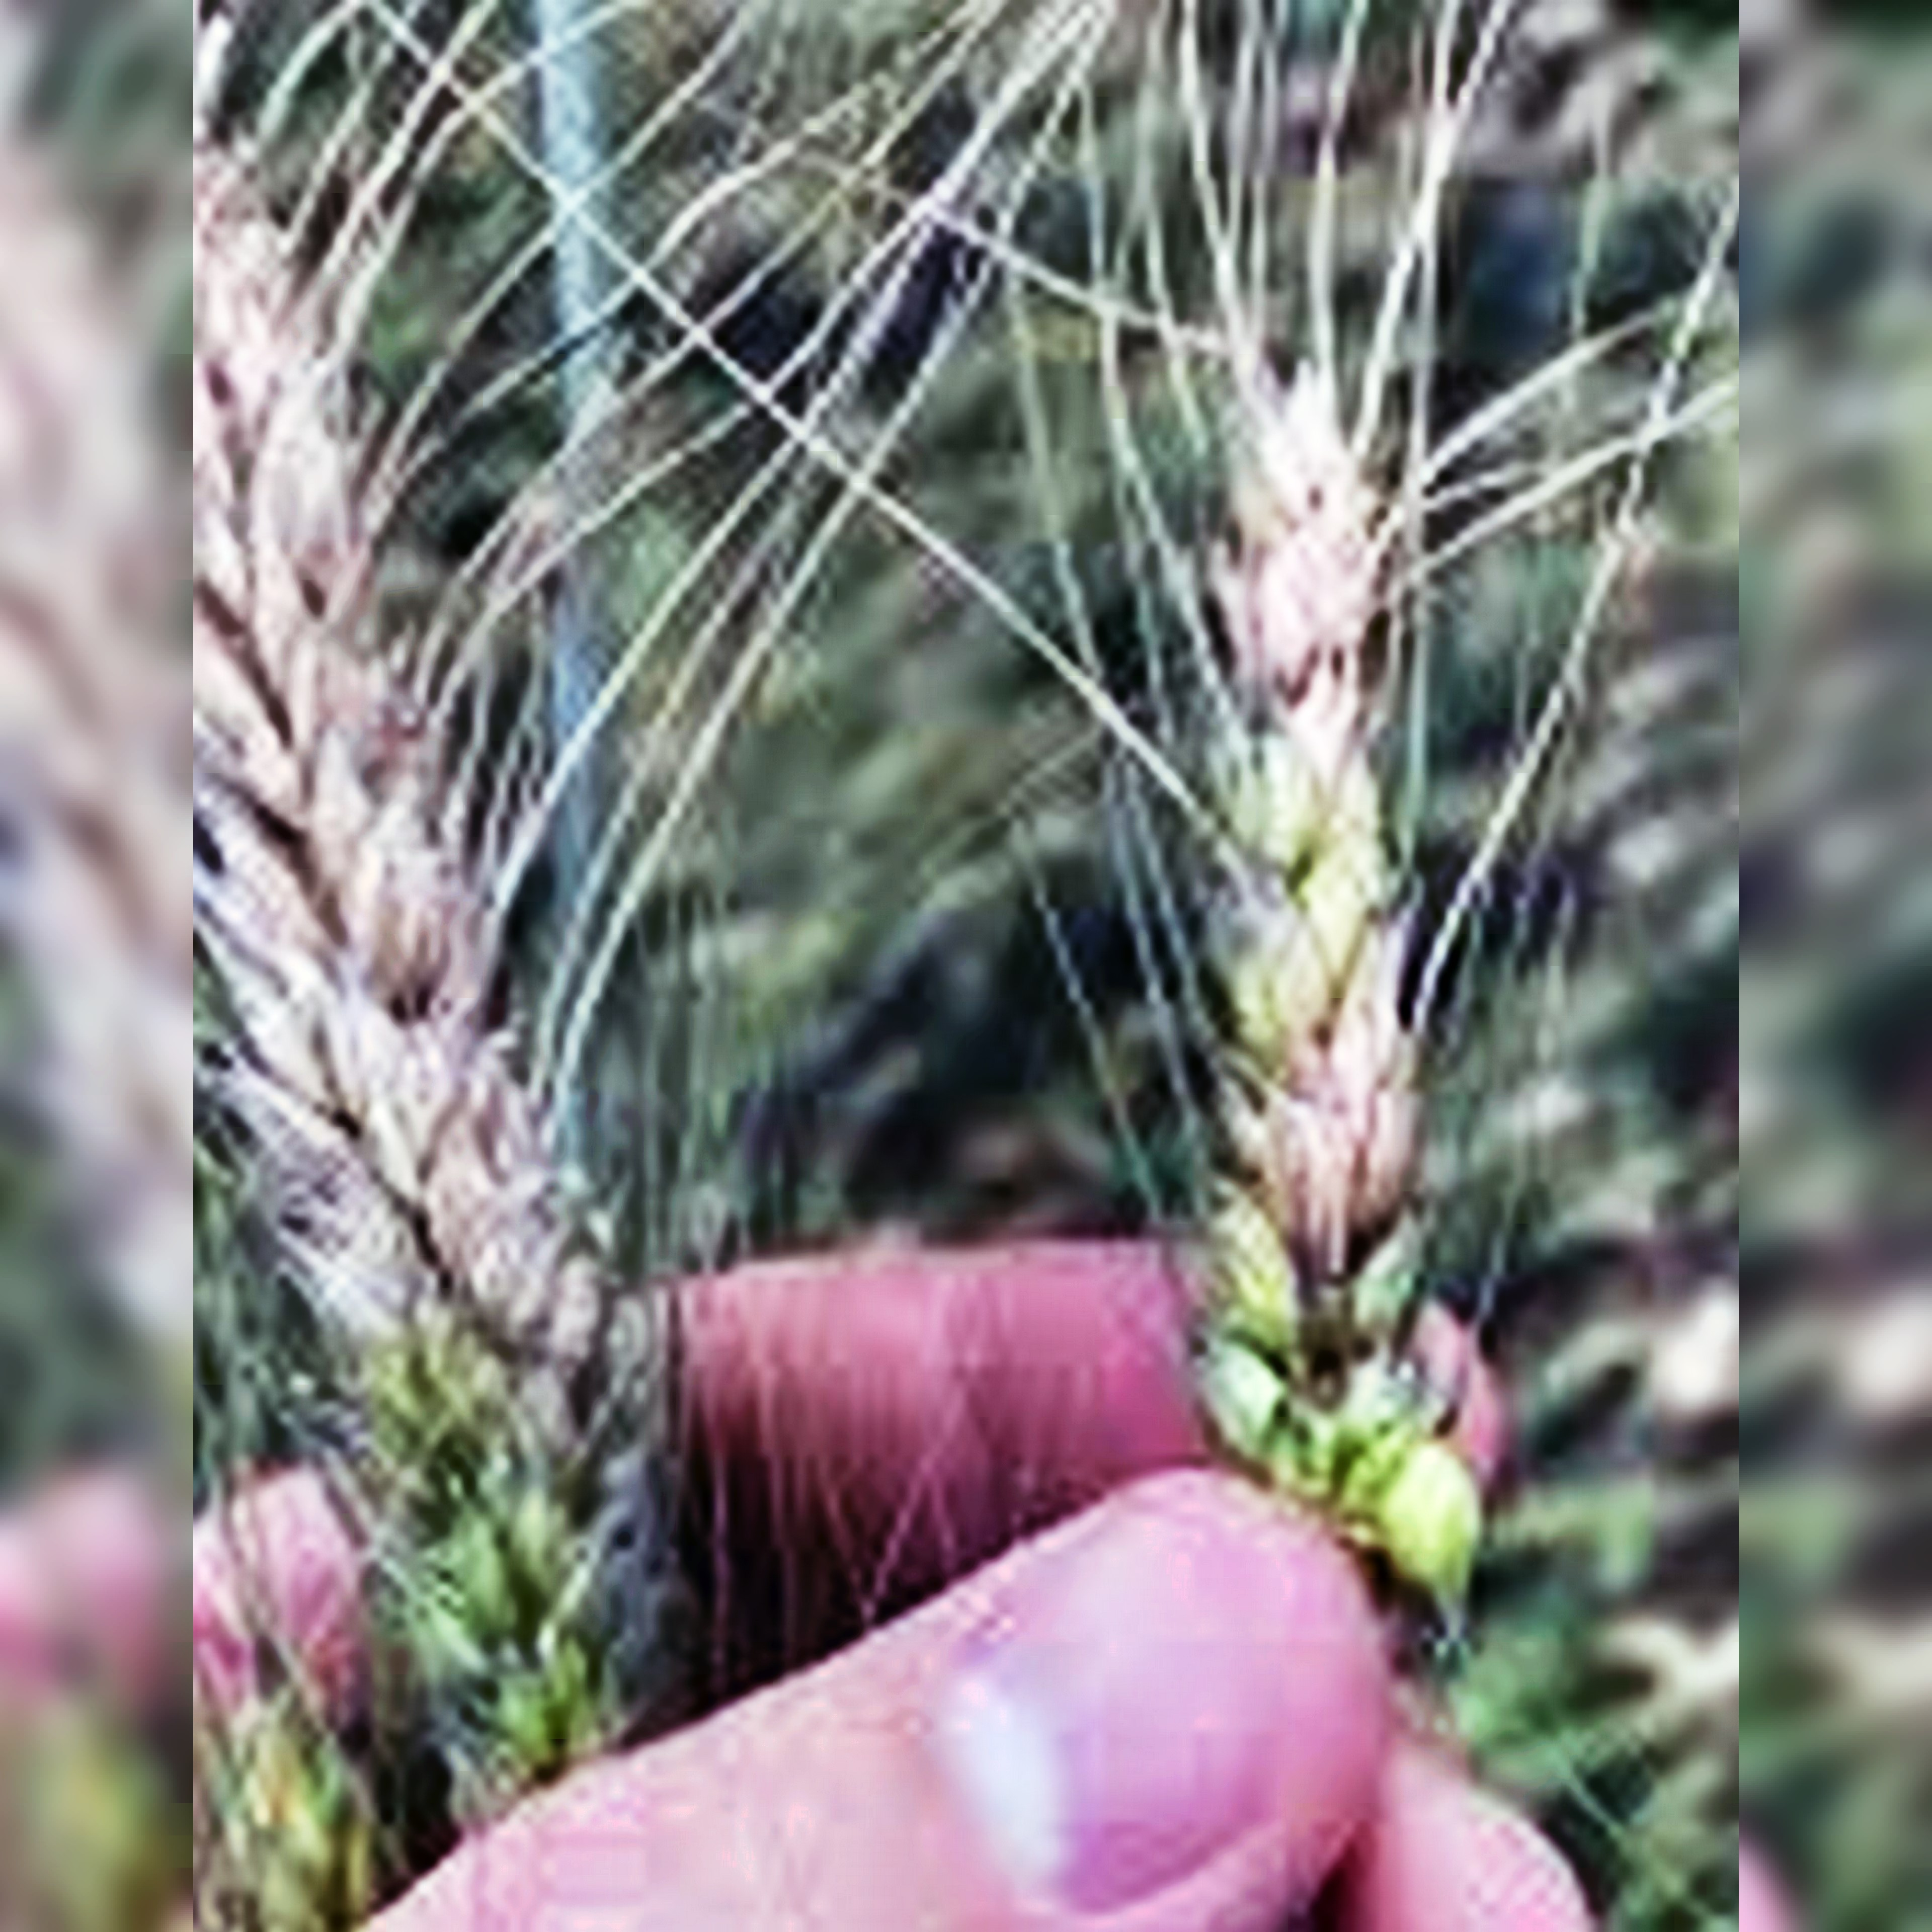Wheat scab: (1097, 343, 1495, 1582)
